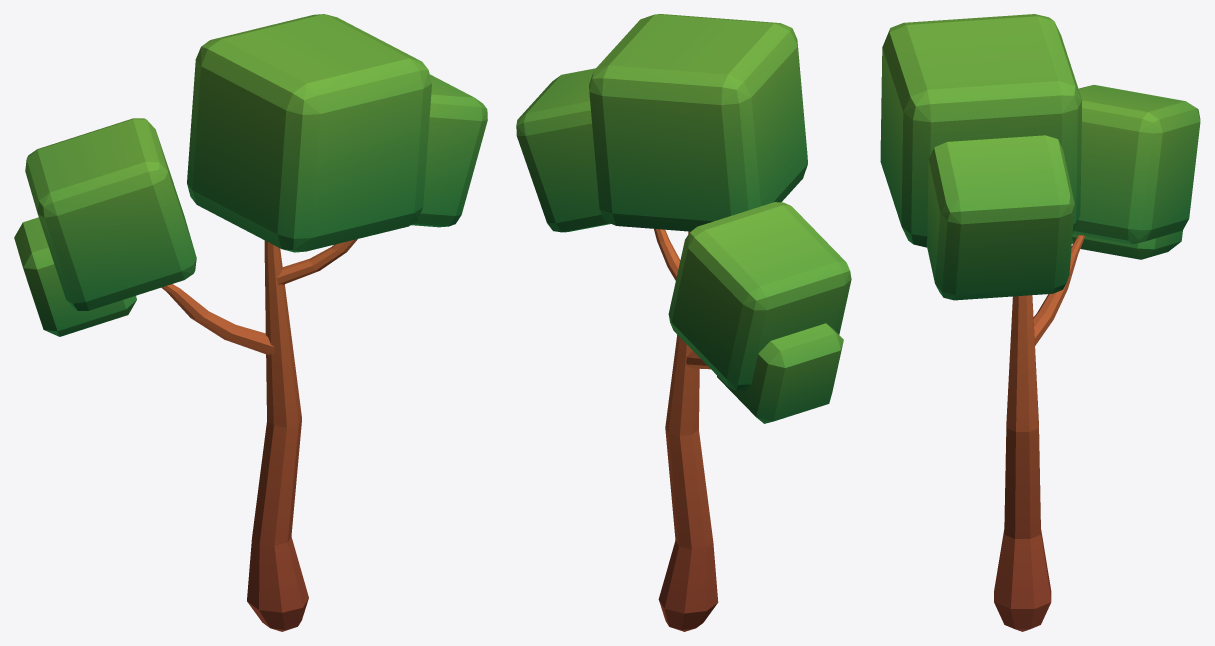
Rendered from kf_tree_2_c.fbx.
The picture shows the model from 3 angles, left to right: view 1: azimuth 30°, elevation 25°; view 2: azimuth 150°, elevation 25°; view 3: azimuth 270°, elevation 25°; orthographic projection. The views are drawn at different scales.
Parts seen in each view (by area): view 1: kf_tree_2_c_LOD0; view 2: kf_tree_2_c_LOD0; view 3: kf_tree_2_c_LOD0.
Boxes of the visible parts, <box> form: kf_tree_2_c_LOD0: <box>14,14,487,631</box>; kf_tree_2_c_LOD0: <box>516,14,851,631</box>; kf_tree_2_c_LOD0: <box>880,14,1200,631</box>.
Size of what is drawn, in the model's own units: 5.29 by 7.96 by 3.91.
1 material, 1 textured.
